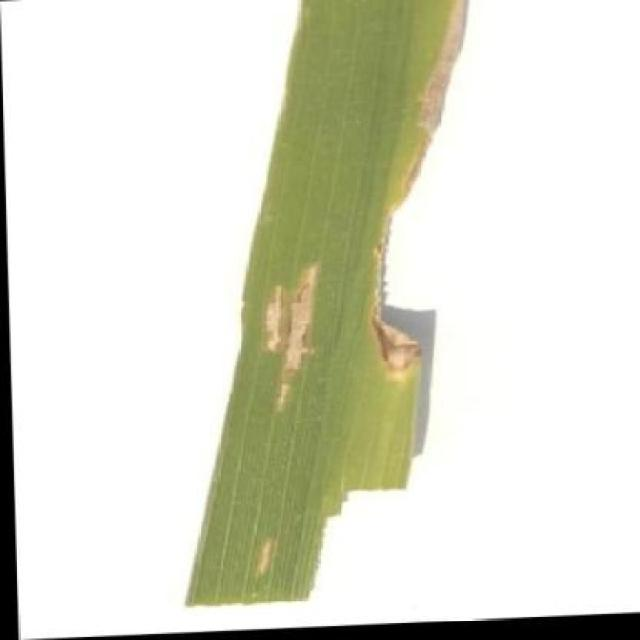Brown_Spot: (160, 0, 497, 609)
